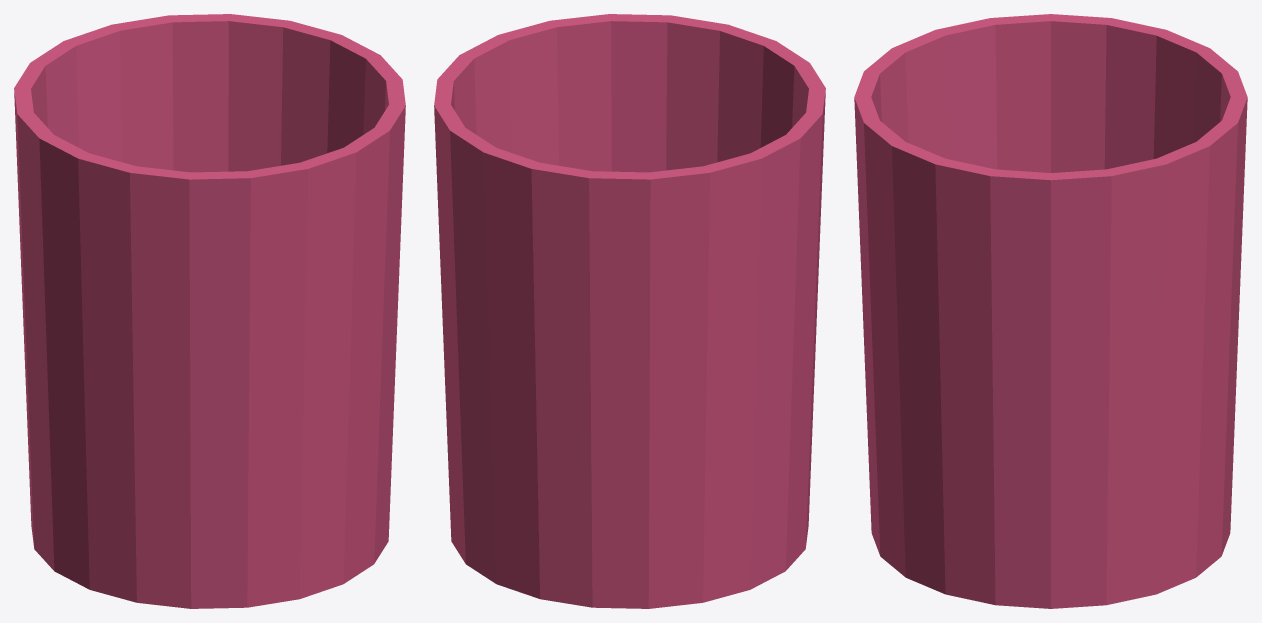
The model's file is Cup.gltf.
The picture shows the model from 3 angles, left to right: view 1: azimuth 30°, elevation 25°; view 2: azimuth 150°, elevation 25°; view 3: azimuth 270°, elevation 25°; orthographic projection.
Visible parts, largest first — view 1: node-0.001; view 2: node-0.001; view 3: node-0.001.
Boxes of the visible parts, bbox=[...] form: node-0.001: bbox=[14, 14, 405, 608]; node-0.001: bbox=[434, 14, 825, 608]; node-0.001: bbox=[854, 14, 1247, 608].
Bounding box in the file's own units: 0.1266 × 0.1549 × 0.1266.
